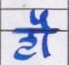ai_matra: (30, 9, 53, 30)
